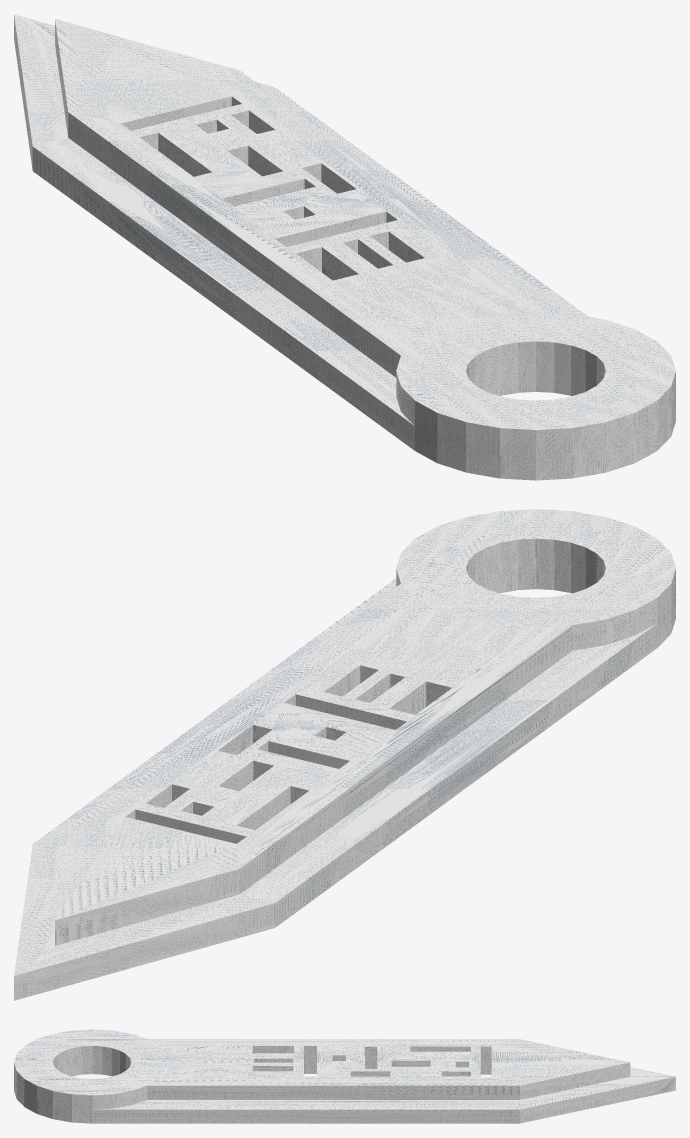
File: swords.fbx
3 renders of one model, top to bottom at view 1: azimuth 30°, elevation 25°; view 2: azimuth 150°, elevation 25°; view 3: azimuth 270°, elevation 25°, orthographic. The views are drawn at different scales.
Parts seen in each view (by area): view 1: Model; view 2: Model; view 3: Model.
Boxes of the visible parts, x1=… form: Model: x1=14, y1=14, x2=675, y2=480; Model: x1=14, y1=509, x2=675, y2=1000; Model: x1=14, y1=1029, x2=675, y2=1123.
Bounding box in the file's own units: 1000 × 199 × 4232.
